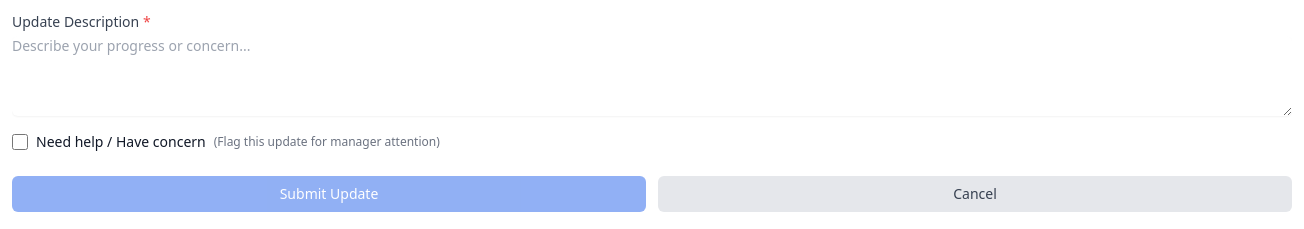
Test: TaskUpdateForm › enables submit button when description is filled
Type "Made progress today" into the text box labelled "Update Description *" at (652, 76), box [12,36,1292,116]
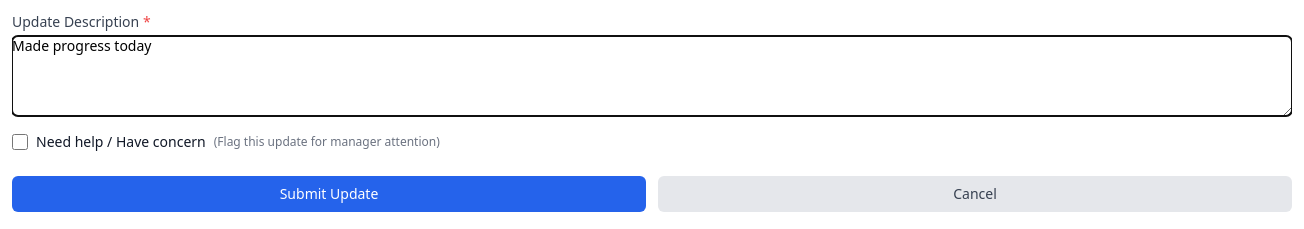
Expected: the button "Submit Update" is enabled, [12,176,646,212]
